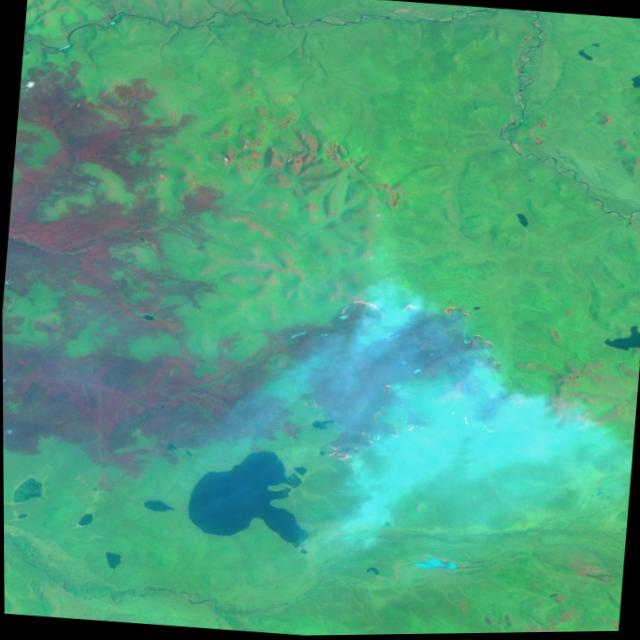fire: (308, 280, 542, 486)
